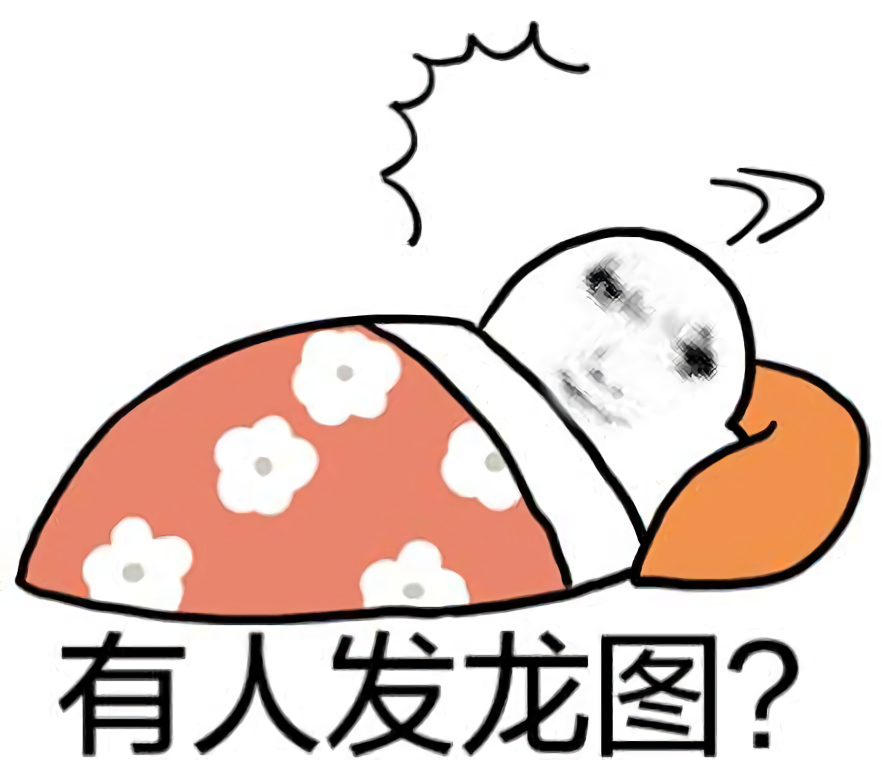dragon: (555, 264, 729, 436)
